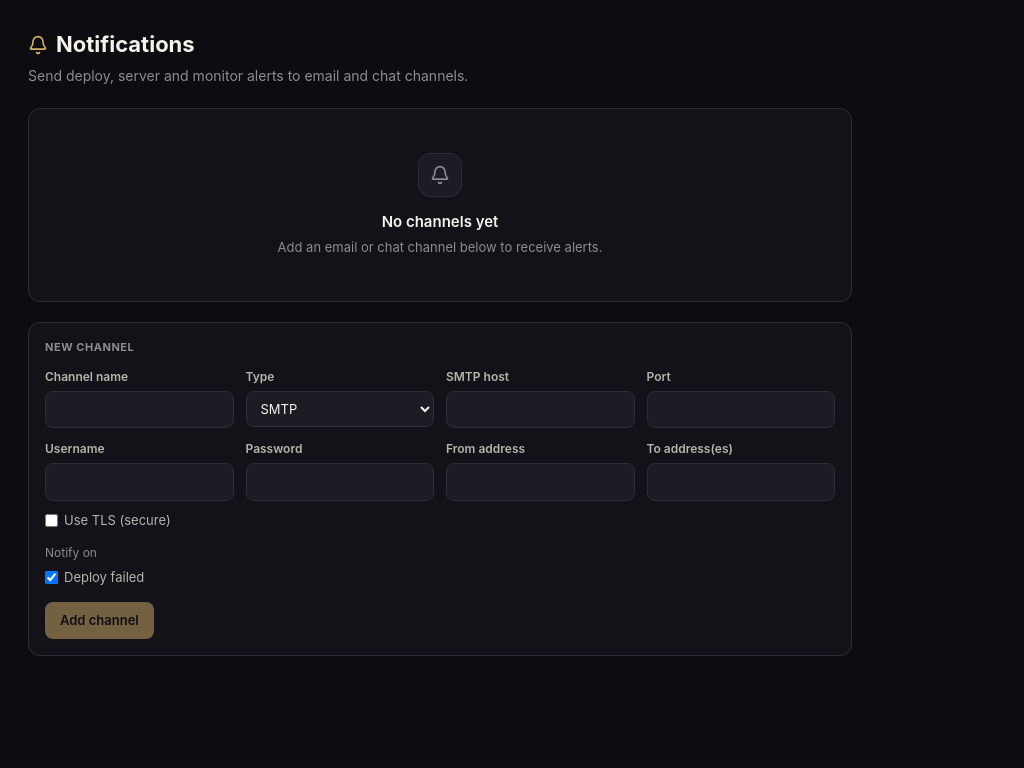
Scenario: NotificationsPage — rich provider config fields › webhook: surfaces the signing secret (masked) + a custom-headers editor
Check: the text "Deploy failed" is shown, box [45, 568, 144, 588]
Select "WEBHOOK" in the dropdown showing "SMTP" at [340, 408], box [246, 390, 434, 426]
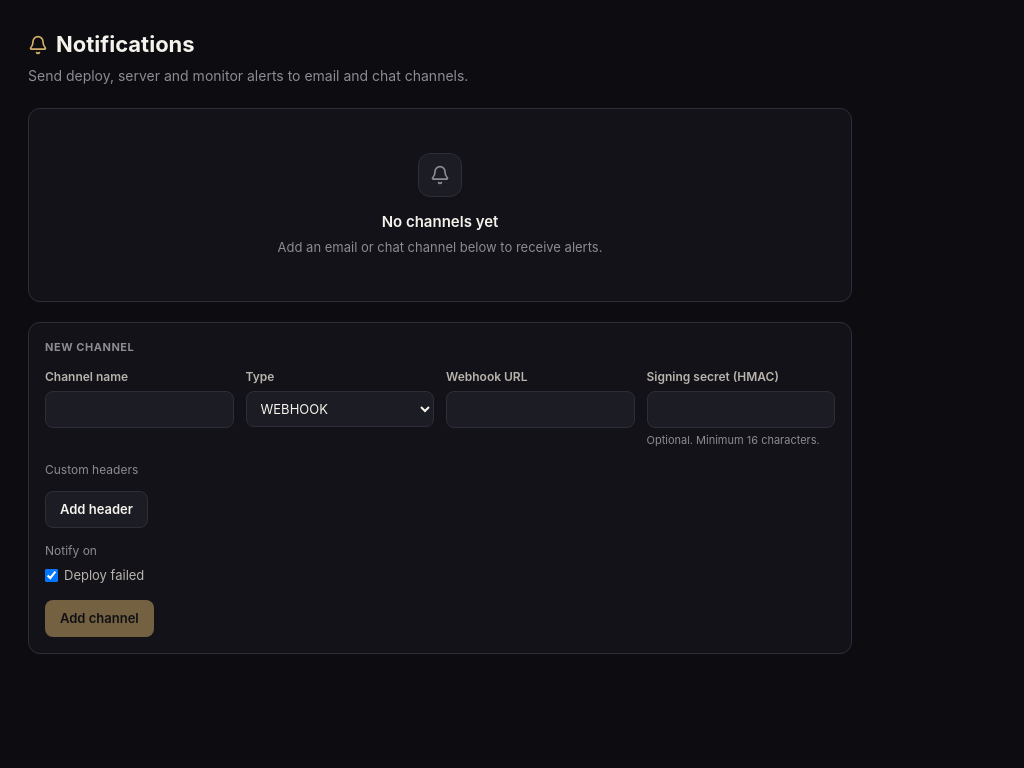
Check: the text "Webhook URL" is shown, box [446, 368, 528, 384]
Check: the text "Signing secret (HMAC)" is shown, box [646, 368, 779, 384]
Check: the button "Add header" is shown, box [45, 490, 148, 528]
